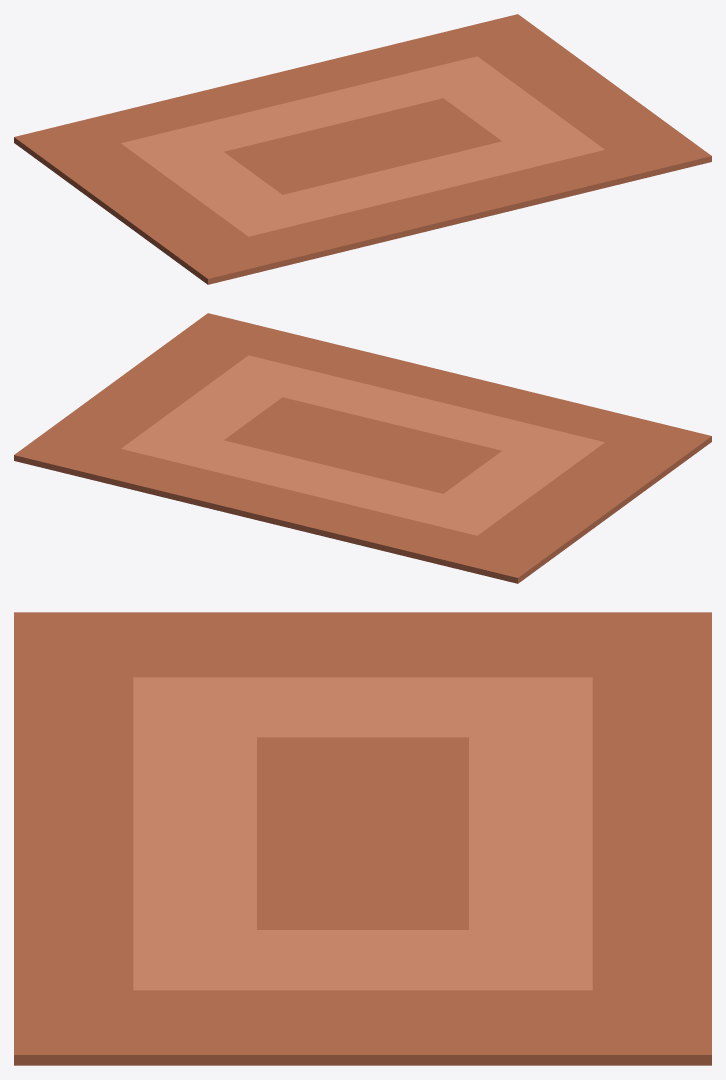
File: Carpet2_C2.fbx
The picture shows the model from 3 angles, top to bottom: view 1: azimuth 30°, elevation 25°; view 2: azimuth 150°, elevation 25°; view 3: azimuth 270°, elevation 25°; orthographic projection. The views are drawn at different scales.
Parts seen in each view (by area): view 1: Carpet2_C2; view 2: Carpet2_C2; view 3: Carpet2_C2.
Part boxes in pixels (left/top/right/bottom): Carpet2_C2: left=14, top=14, right=711, bottom=284; Carpet2_C2: left=14, top=313, right=711, bottom=583; Carpet2_C2: left=14, top=612, right=711, bottom=1065.
Size of the model in its own units: 90 by 1 by 60.
